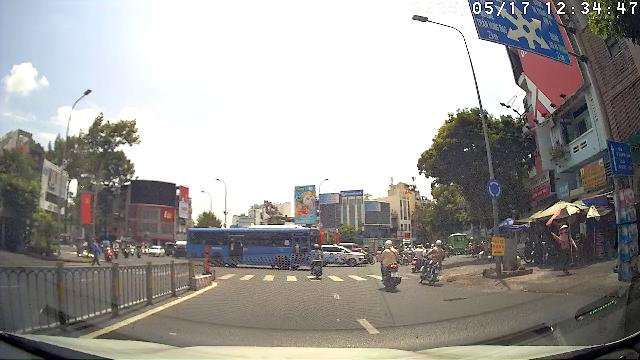303-noi-giao-nhau-chay-theo-vong-xuyen: (486, 179, 503, 199)
